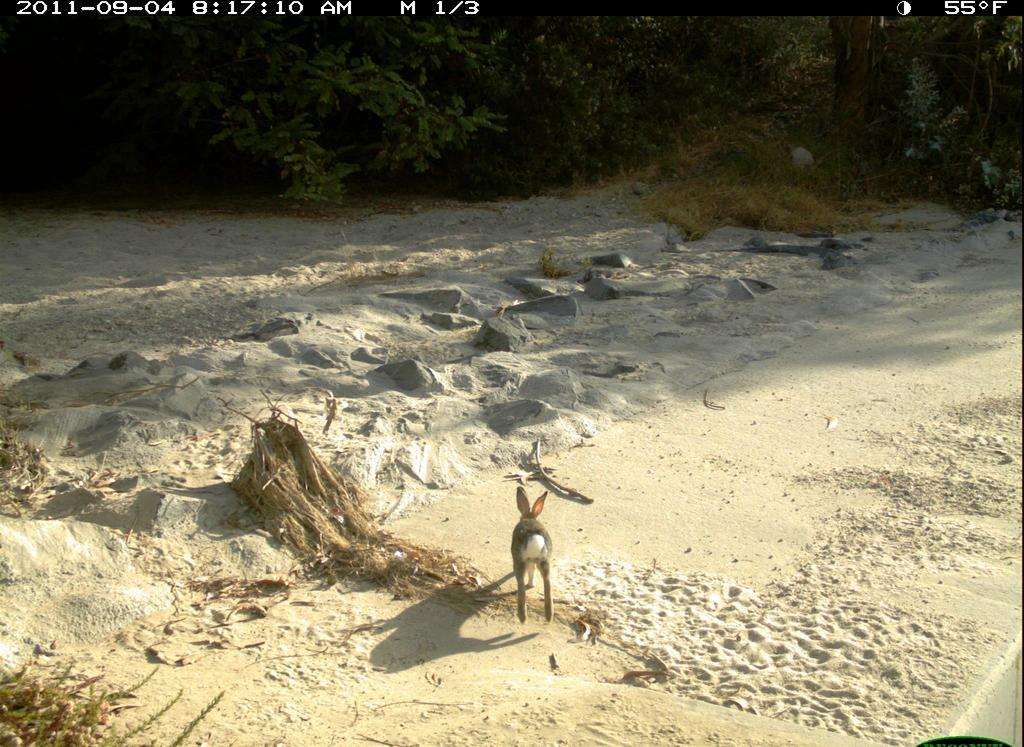rabbit: (500, 482, 565, 630)
